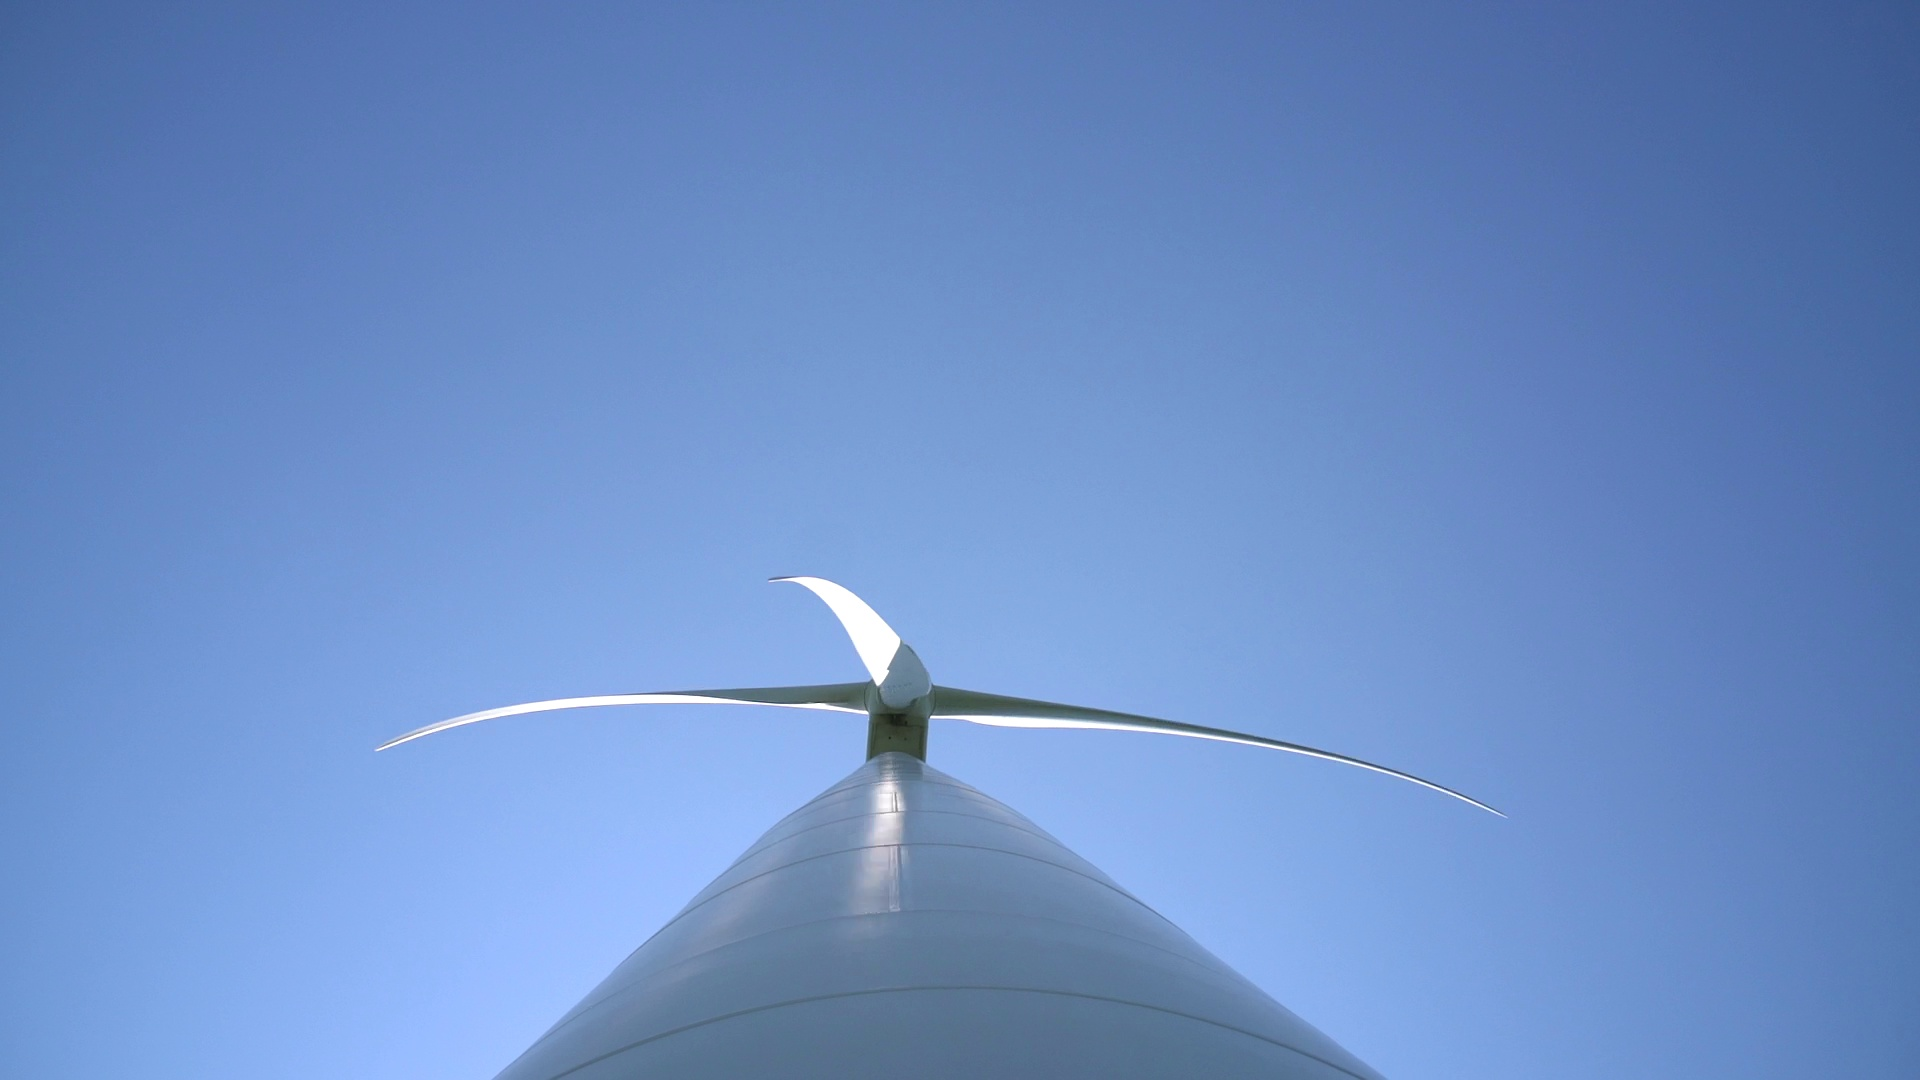turbine: (924, 646, 1519, 833), (786, 551, 967, 764), (334, 666, 870, 735)
